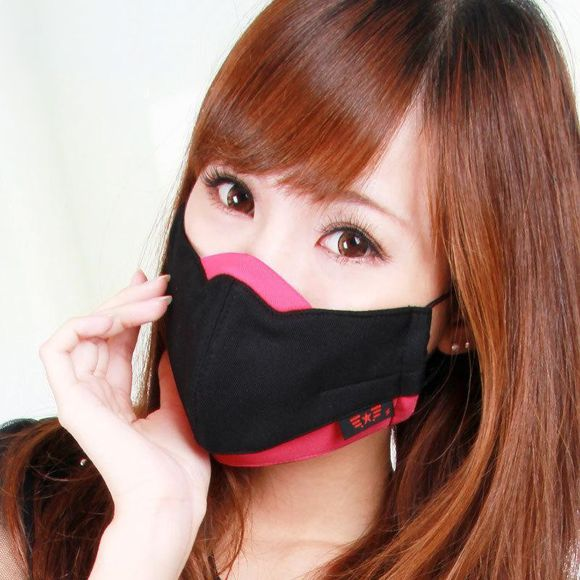face_mask: (181, 75, 442, 428)
